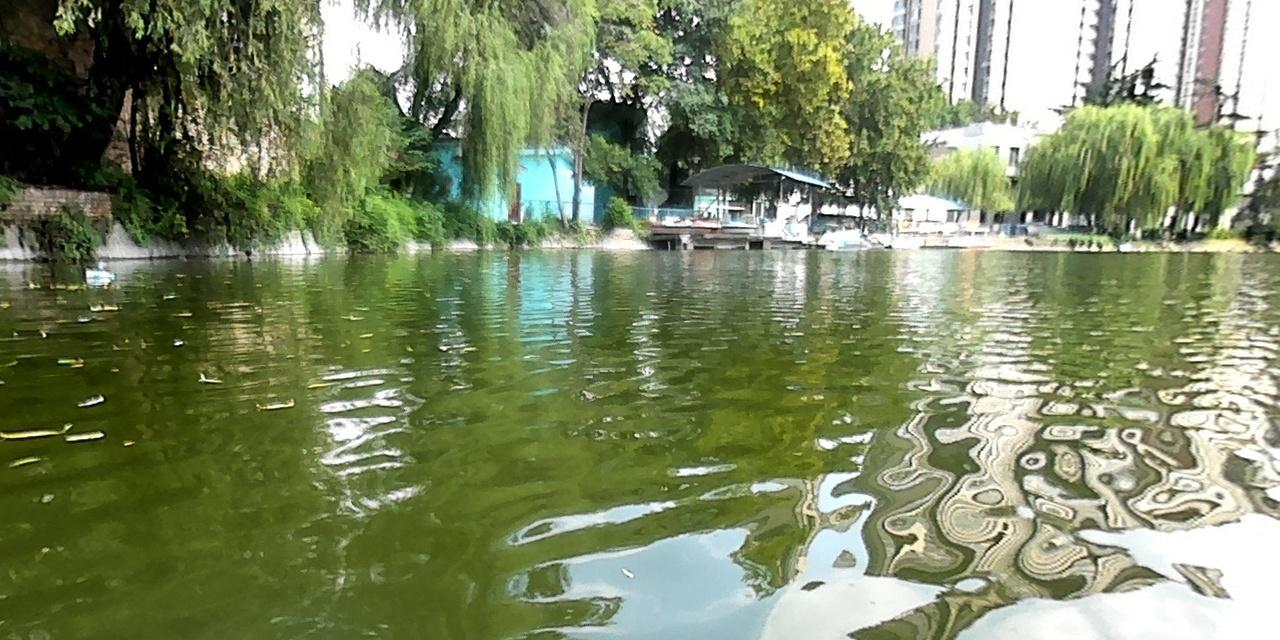bottle: (83, 268, 115, 282)
